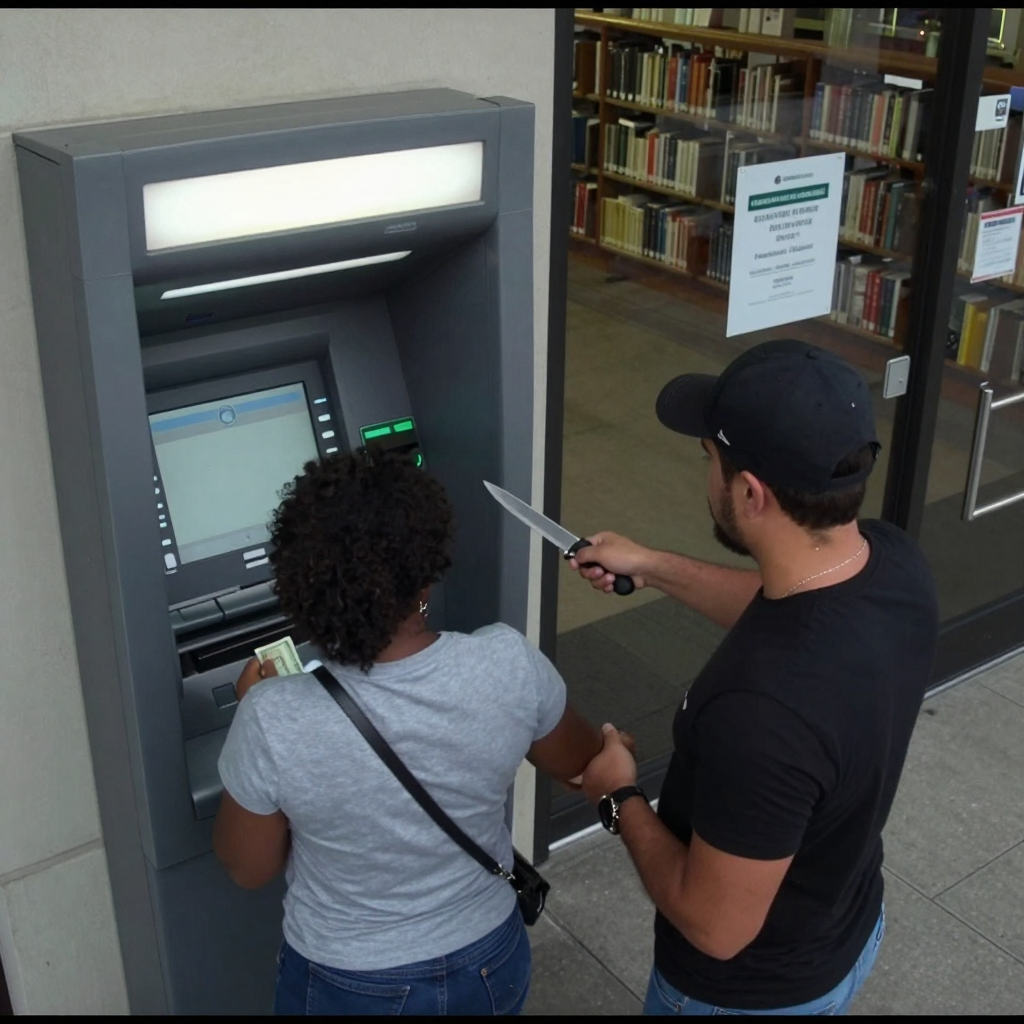Assault: (482, 480, 635, 596)
Robbery: (565, 337, 940, 1018), (211, 446, 638, 1016)
